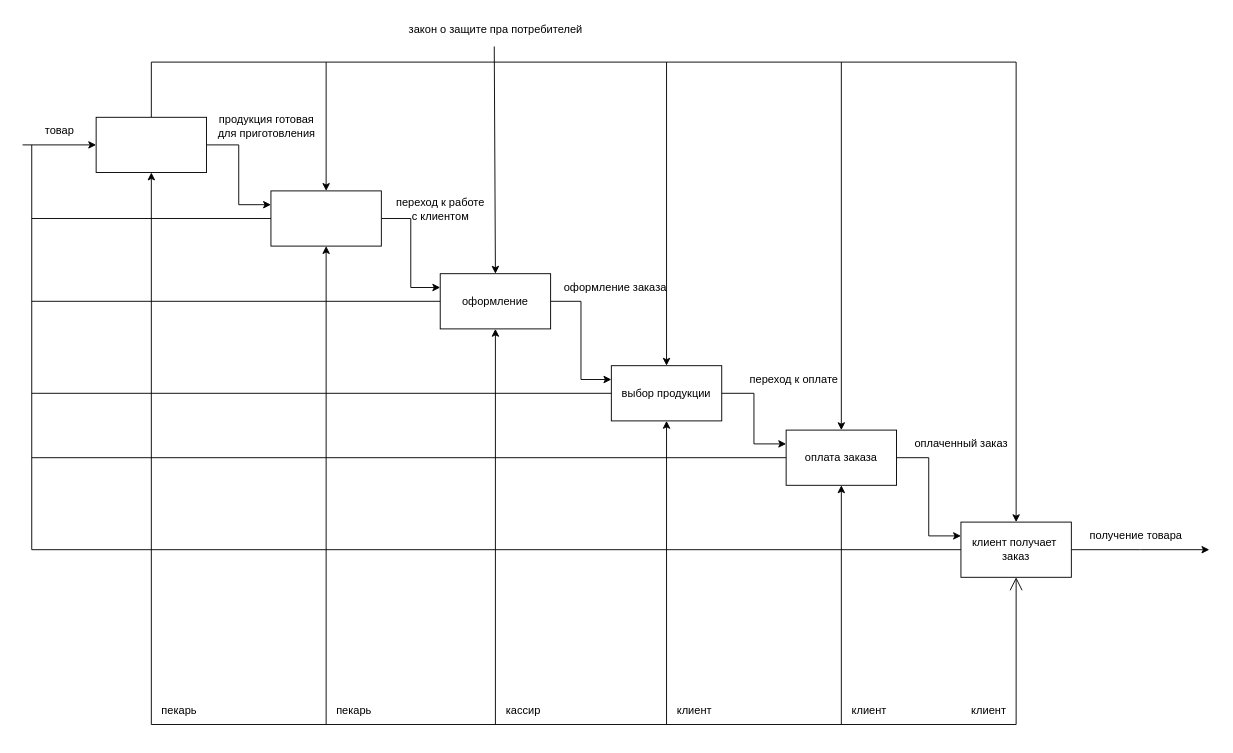
This 1233x753 diagram has some shape labels left out. Here are the shapes that lost their labels. From the top down, the centre of each, then its label:
the point at 151,144: заготовка продукции
the point at 325,218: приготовление продукций
